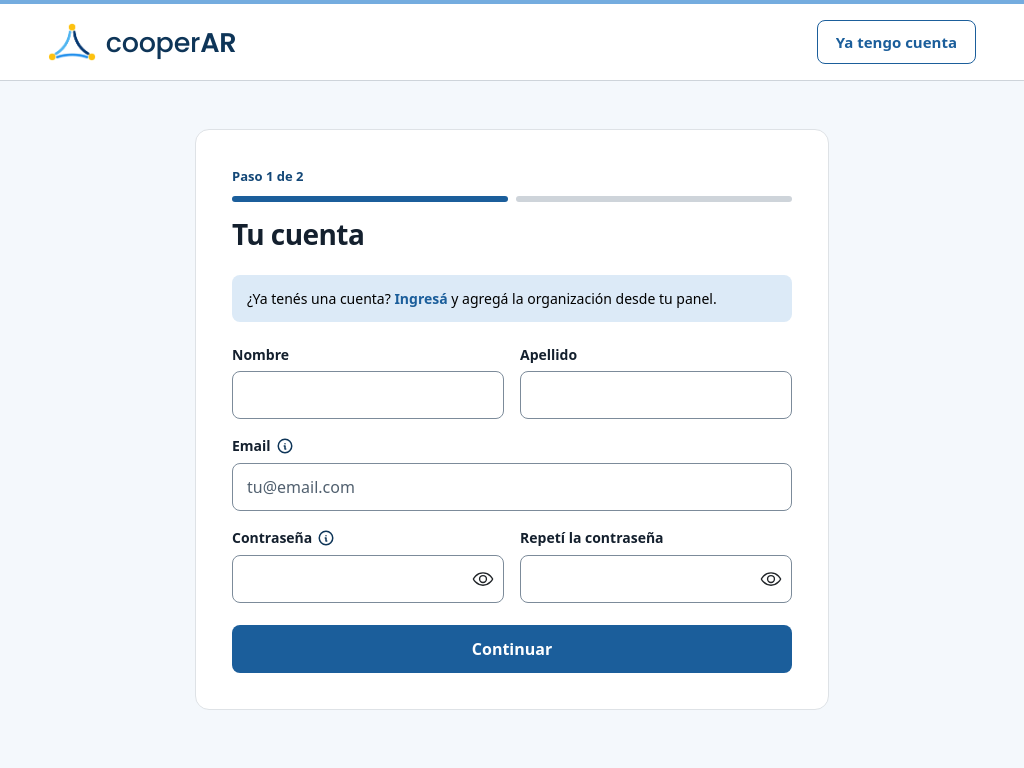
Scenario: registration › points at every missing field of the account step and does not move on
This screenshot has width=1024, height=768.
Click the button "Continuar" at (512, 649), box [232,625,792,673]
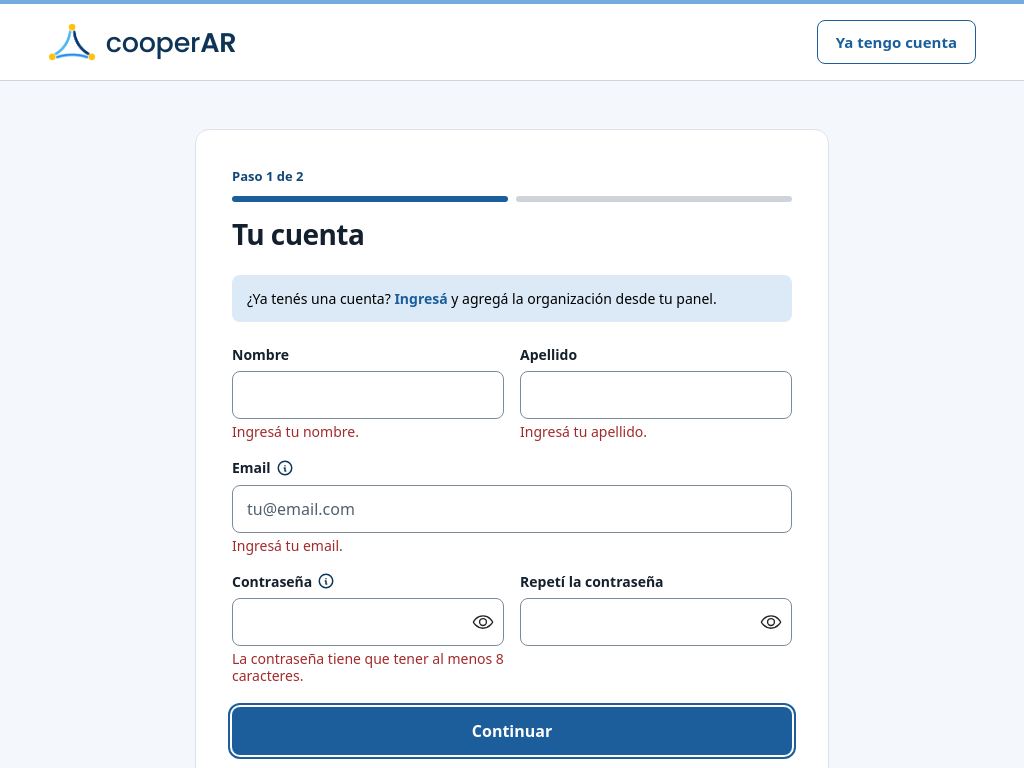
expect the heading "Tu cuenta" is shown: met, box [232,215,364,253]
expect the text "Ingresá tu email." is shown: met, box [232,536,343,555]
expect the text "La contraseña tiene que tener al menos 8 caracteres." is shown: met, box [232,651,504,685]
